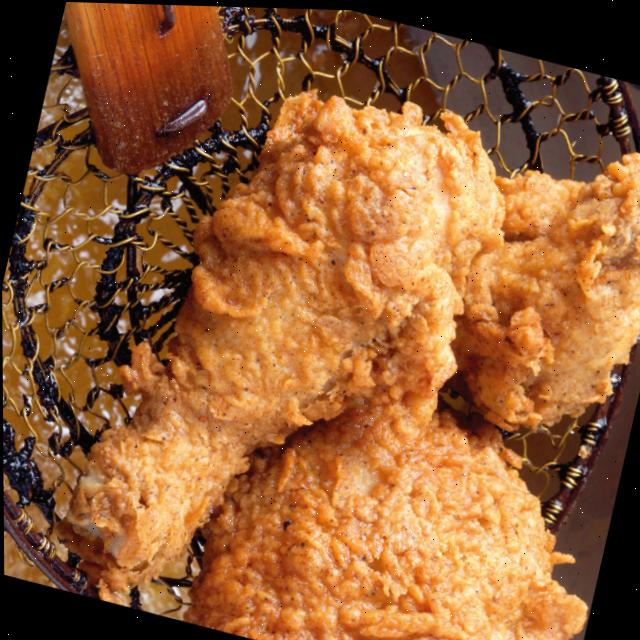Wet: (45, 19, 538, 640)
